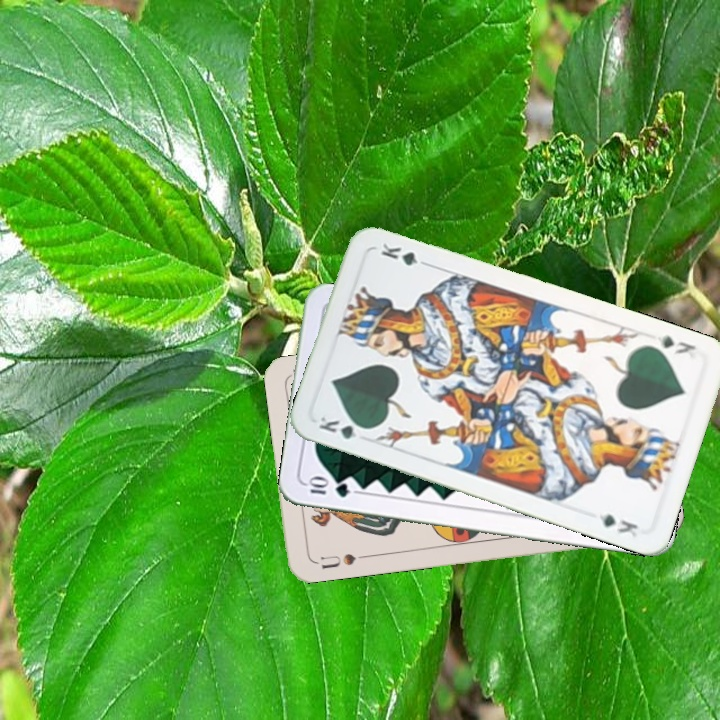G10: (303, 475, 352, 500)
GK: (314, 412, 373, 442), (652, 331, 698, 357)
SU: (317, 549, 370, 572)
